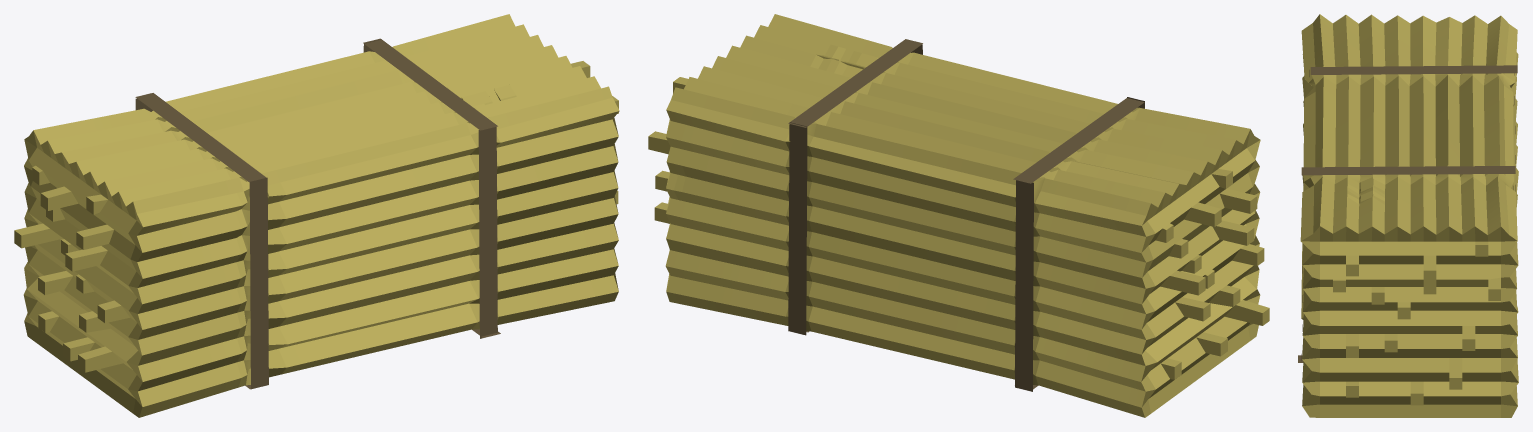
File: Haybale_Model_Archery.fbx
3 renders of one model, left to right at view 1: azimuth 30°, elevation 25°; view 2: azimuth 150°, elevation 25°; view 3: azimuth 270°, elevation 25°, orthographic. The views are drawn at different scales.
Visible parts, largest first — view 1: polySurface6; view 2: polySurface6; view 3: polySurface6.
Boxes of the visible parts, box(x1,y1,x2,y2) form: polySurface6: box(14, 14, 619, 417); polySurface6: box(648, 14, 1269, 417); polySurface6: box(1298, 14, 1518, 417).
Bounding box in the file's own units: 16.93 × 6.23 × 6.46.
